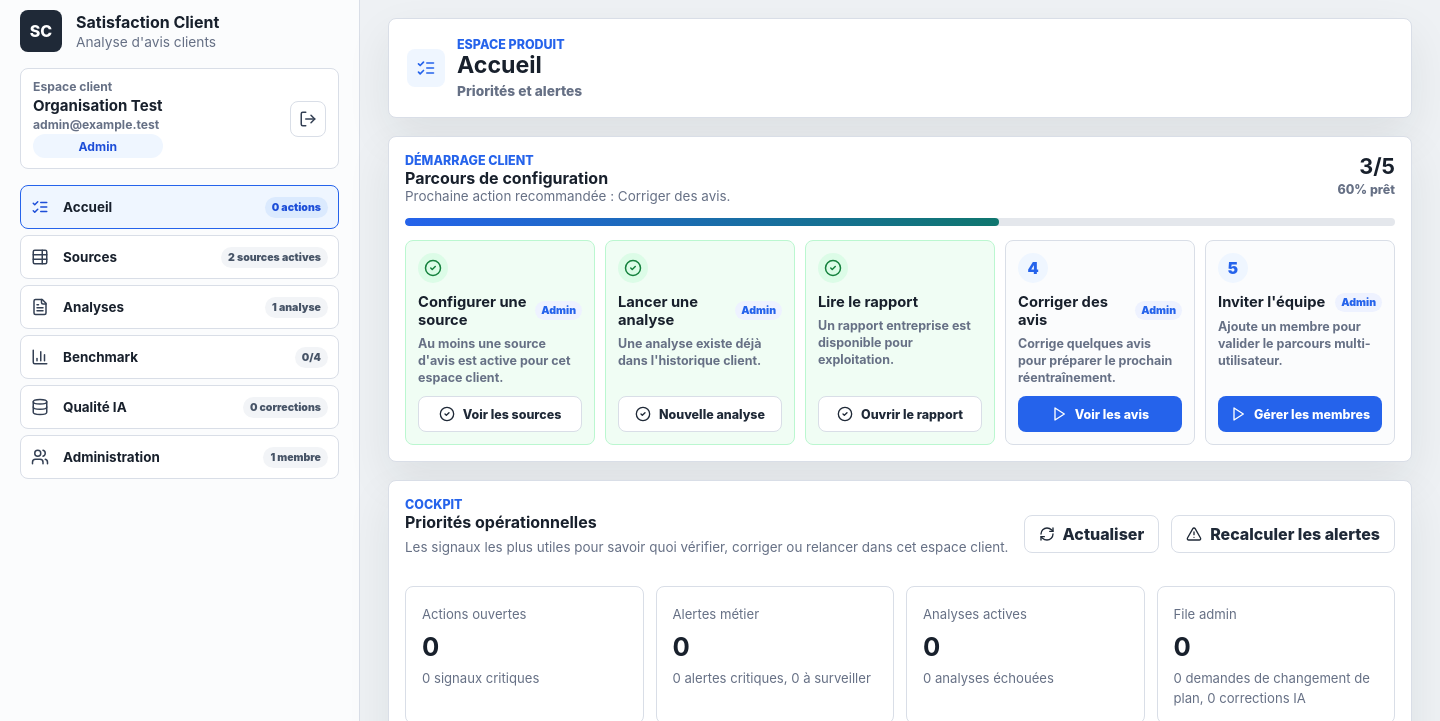
App authentication and permissions › scopes sampled run KPIs to the collected corpus while keeping text analysis visible
This screenshot has width=1440, height=721.
Expected: the text "admin@example.test" is shown, [33, 117, 163, 132]
Click the button "Analyses 1 analyse" at (94, 307), box [20, 285, 339, 329]
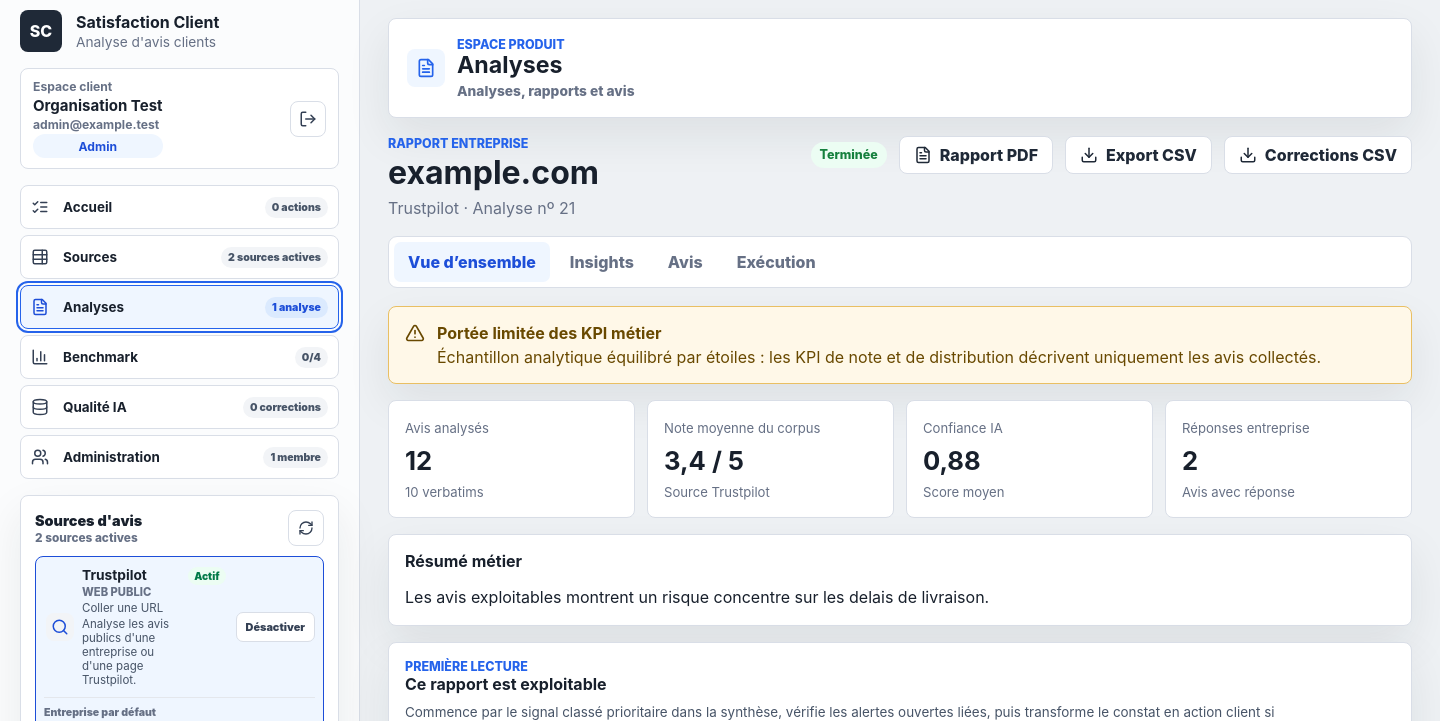
Now the text "Portée limitée des KPI métier" is shown, box [437, 323, 662, 343]
Now the text "Échantillon analytique équilibré par étoiles : les KPI de note et de distribution décrivent uniquement les avis collecté" is shown, box [437, 347, 1321, 367]
Now the text "Note moyenne du corpus" is shown, box [664, 420, 820, 436]
Click the tab "Insights" at (602, 262), box [556, 242, 648, 282]
(page scrolled)
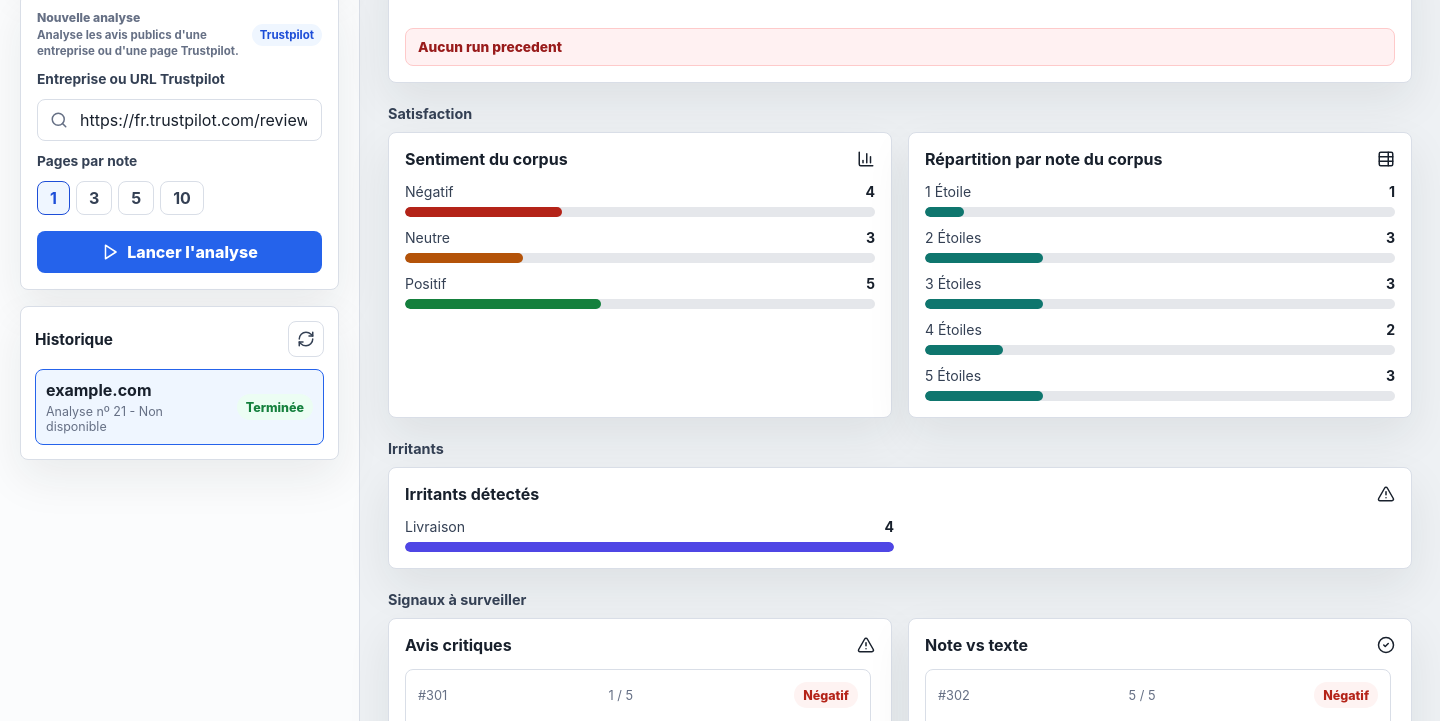
Now the heading "Sentiment du corpus" is shown, box [405, 149, 568, 169]
Now the heading "Irritants détectés" is shown, box [405, 484, 539, 504]
